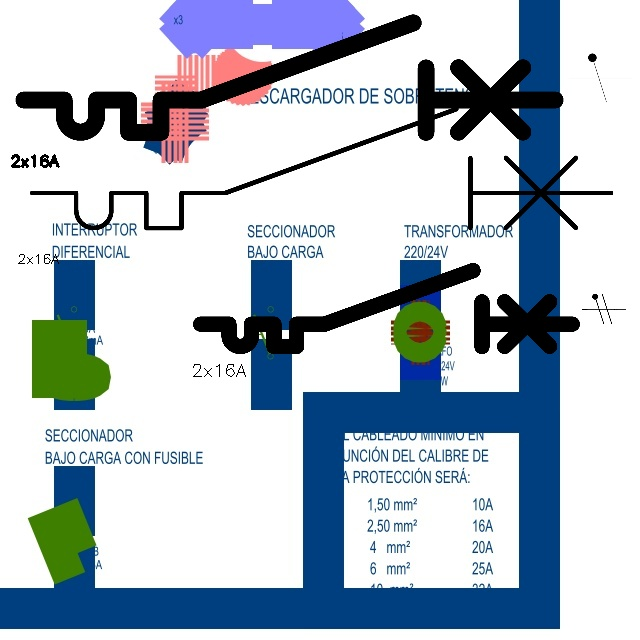interruptor_termomagnetico: (17, 94, 625, 243), (10, 9, 568, 146), (191, 261, 582, 356)
